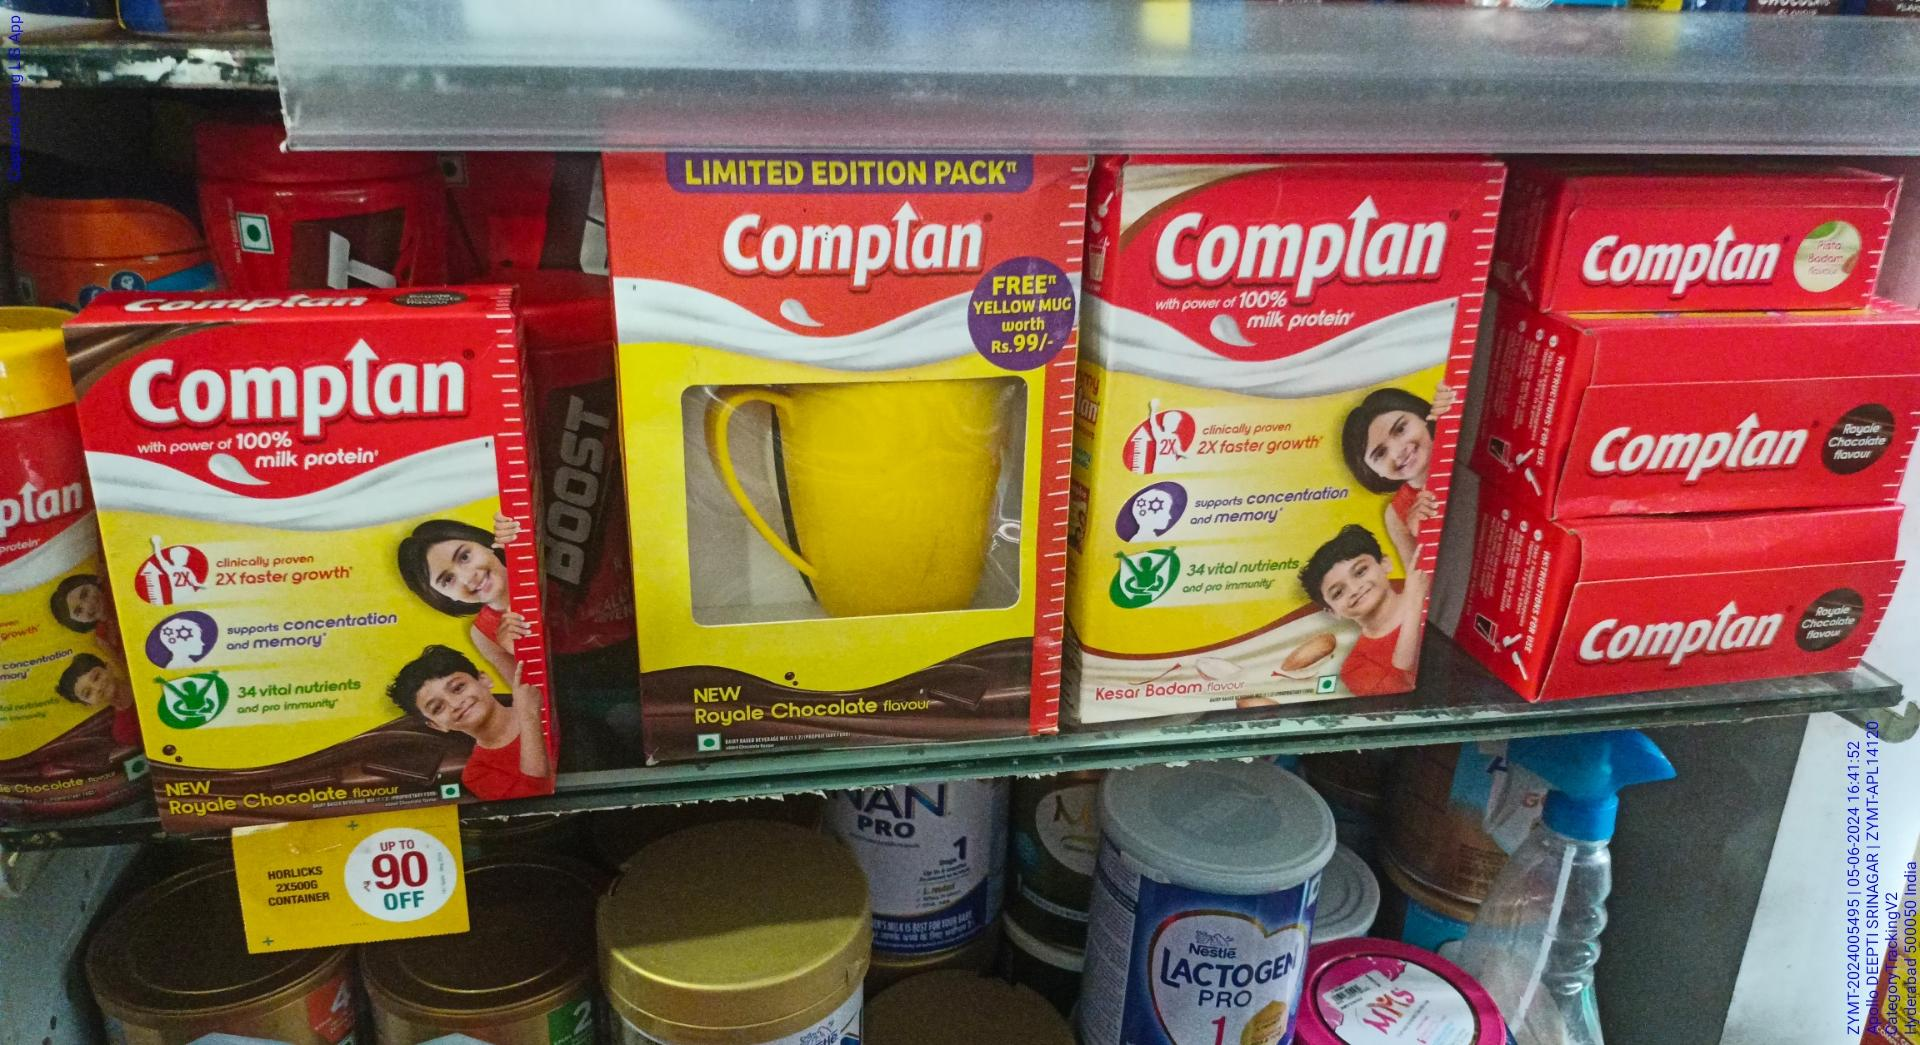COMPLAN_CHOCOLATE_200_GMS_PACK: (90, 322, 547, 824)
COMPLAN_KESAR_BADAM_200_GMS_PACK: (1095, 156, 1452, 721)
